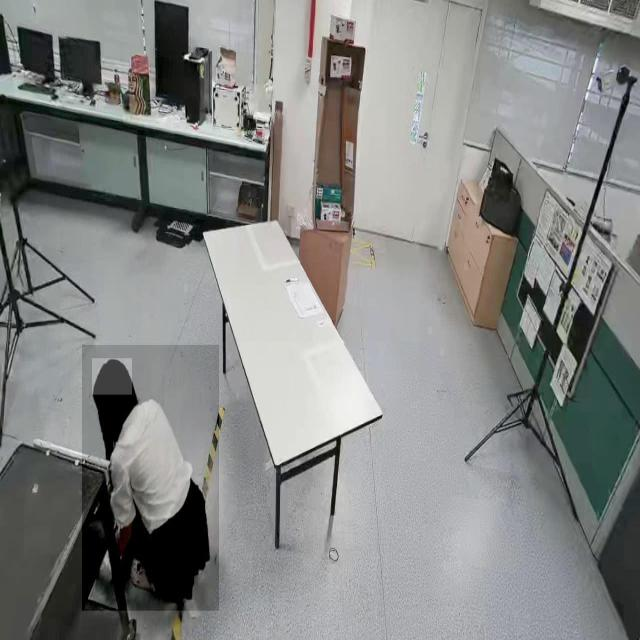head_nohelmet: (92, 358, 132, 396)
person: (82, 345, 220, 611)
